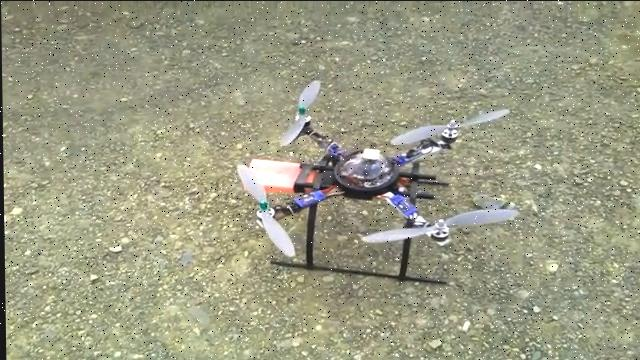drone: (232, 72, 520, 288)
